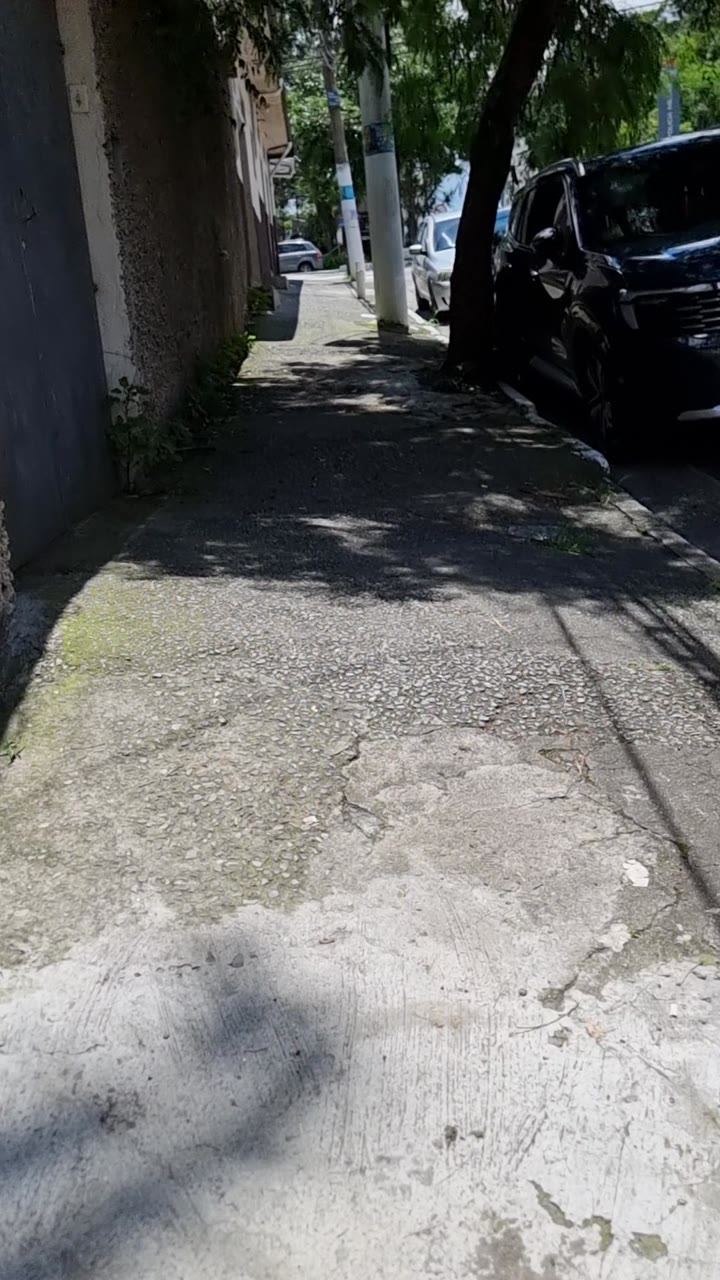obstaculo: (353, 38, 403, 320)
